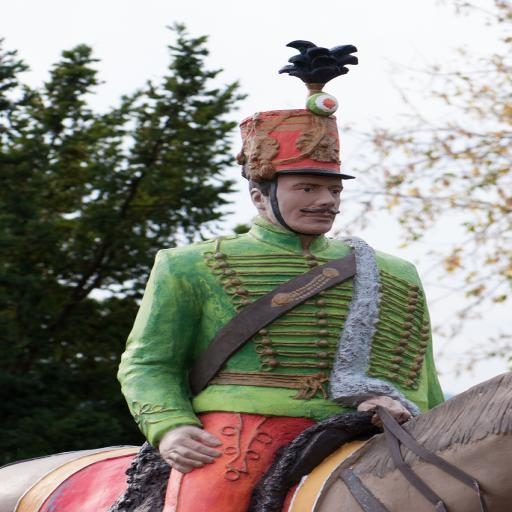horse: (0, 372, 512, 511)
